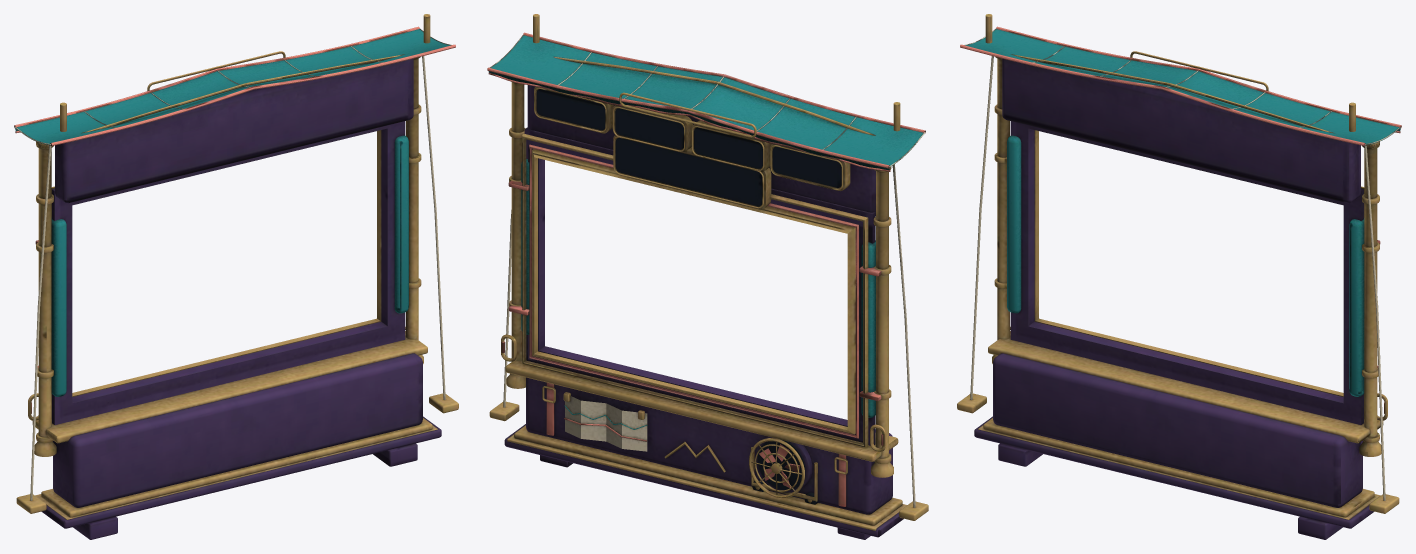
The picture shows the model from 3 angles, left to right: view 1: azimuth 30°, elevation 25°; view 2: azimuth 150°, elevation 25°; view 3: azimuth 330°, elevation 25°; orthographic projection.
Visible parts, largest first — view 1: Violet_enamel, Brushed_expedition_brass, Teal_shelter_textile, Coral_woven_binding, Ivory_route_paper; view 2: Brushed_expedition_brass, Violet_enamel, Teal_shelter_textile, Even_midnight_inset, Coral_woven_binding, Ivory_route_paper; view 3: Violet_enamel, Brushed_expedition_brass, Teal_shelter_textile, Coral_woven_binding, Ivory_route_paper.
Boxes of the visible parts, box(x1,y1,x2,y2) form: Violet_enamel: box(41, 58, 441, 539); Brushed_expedition_brass: box(16, 14, 458, 519); Teal_shelter_textile: box(15, 29, 450, 396); Coral_woven_binding: box(14, 26, 455, 413); Ivory_route_paper: box(14, 28, 451, 500); Brushed_expedition_brass: box(489, 14, 928, 530); Violet_enamel: box(504, 85, 903, 539); Teal_shelter_textile: box(488, 35, 923, 429); Even_midnight_inset: box(536, 89, 841, 504); Coral_woven_binding: box(487, 32, 925, 506); Ivory_route_paper: box(489, 35, 925, 507); Violet_enamel: box(974, 58, 1374, 539); Brushed_expedition_brass: box(957, 14, 1399, 519); Teal_shelter_textile: box(965, 29, 1400, 396); Coral_woven_binding: box(960, 26, 1401, 413); Ivory_route_paper: box(964, 28, 1401, 500).
Size of the model in its own units: 9.3 by 9 by 1.45.
6 materials, 6 textured.
